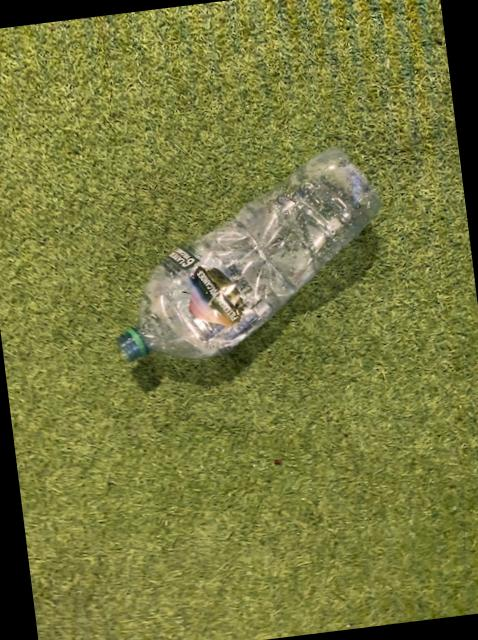plastic: (116, 145, 378, 358)
